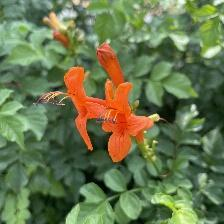honeysuckle: (35, 54, 164, 163)
